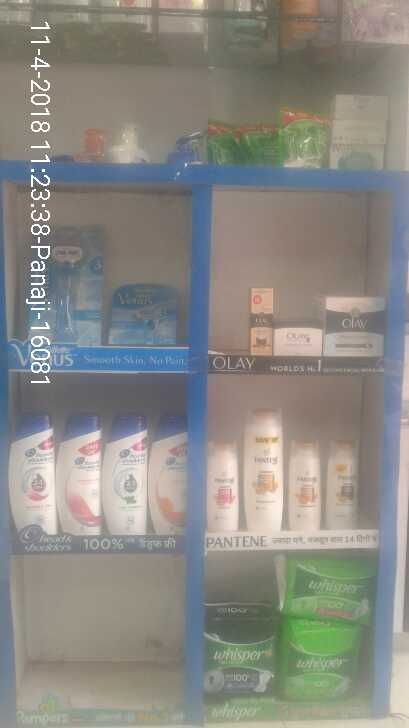venus: (26, 224, 104, 346), (108, 284, 177, 345)
